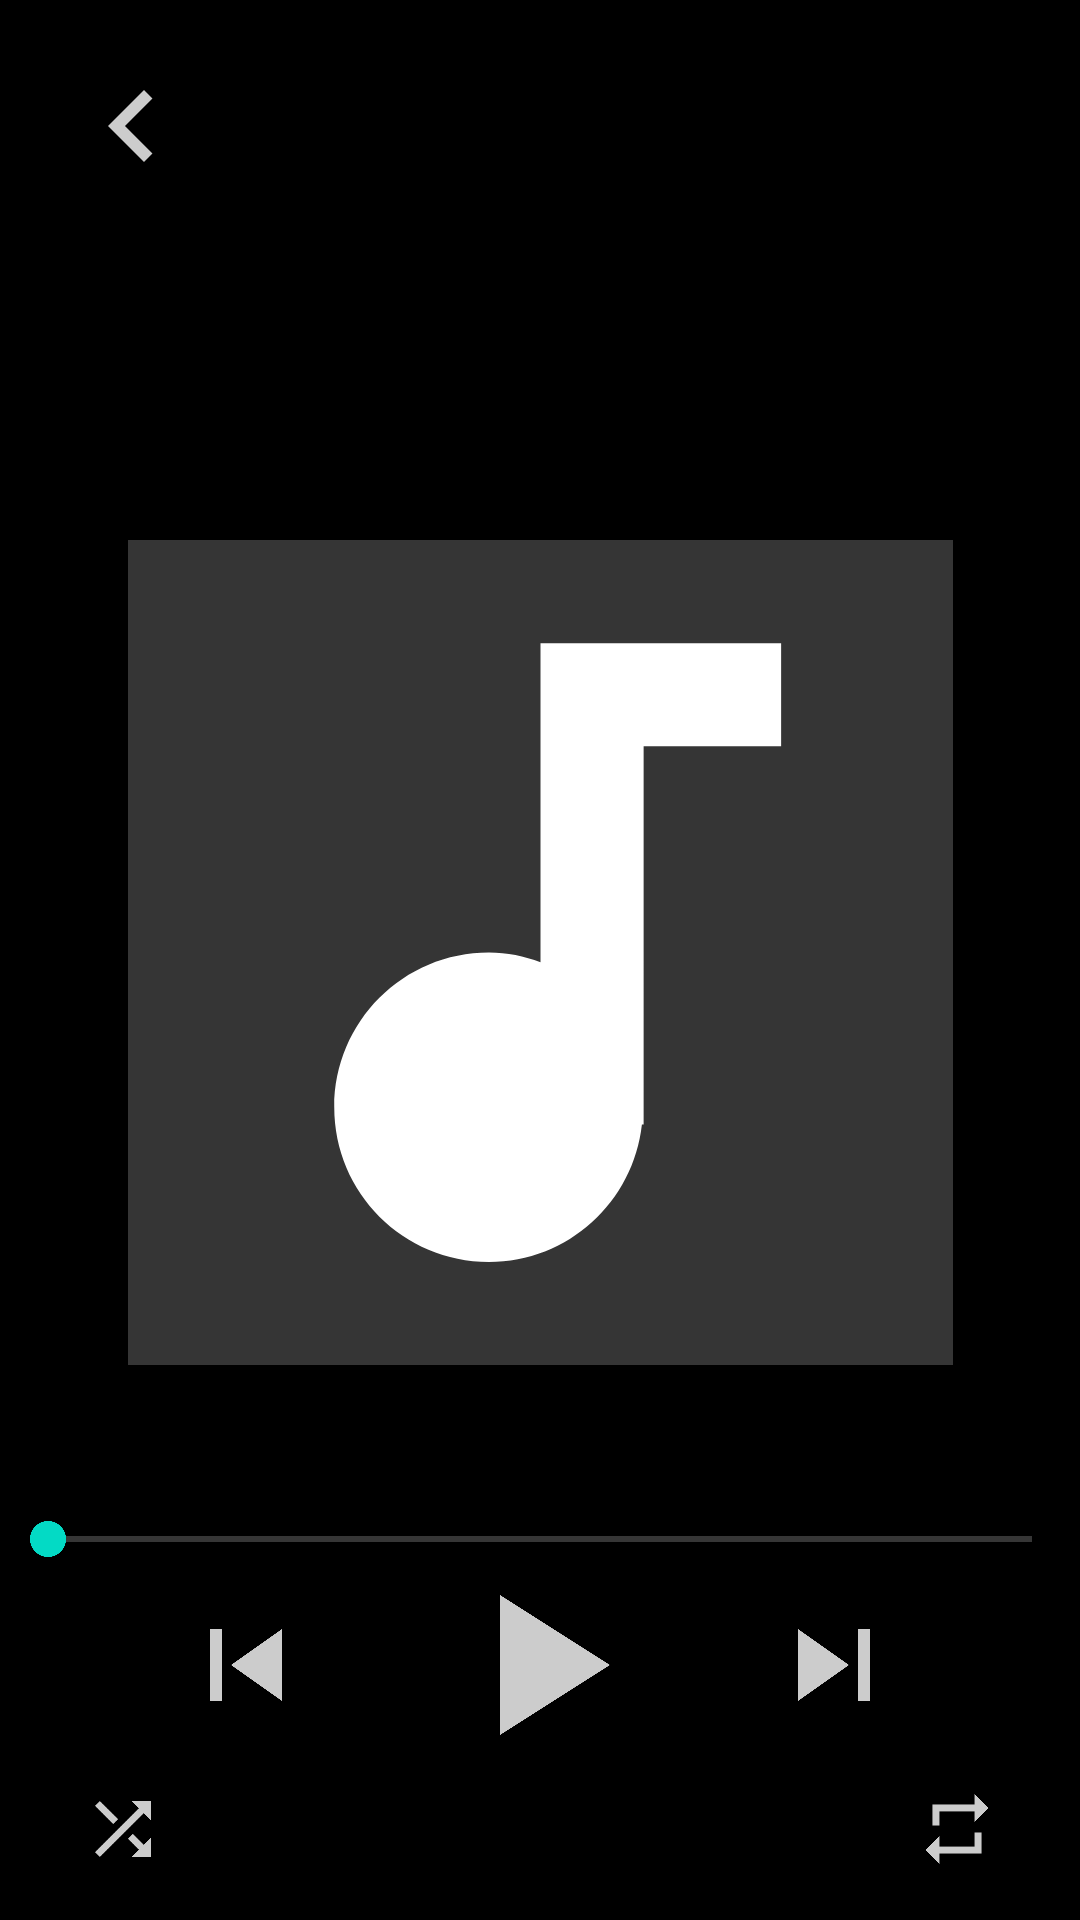

Locate icon controls on the screen. Image size 1080*1920, boxes as (x1=x1, y1=y1, x2=x2, y2=y2).
back arrow: (x1=108, y1=90, x2=153, y2=162)
play: (x1=500, y1=1595, x2=609, y2=1735)
repeat: (x1=926, y1=1794, x2=988, y2=1864)
shuffle: (x1=95, y1=1801, x2=151, y2=1857)
skip next: (x1=798, y1=1629, x2=870, y2=1701)
skip previous: (x1=210, y1=1629, x2=282, y2=1701)
